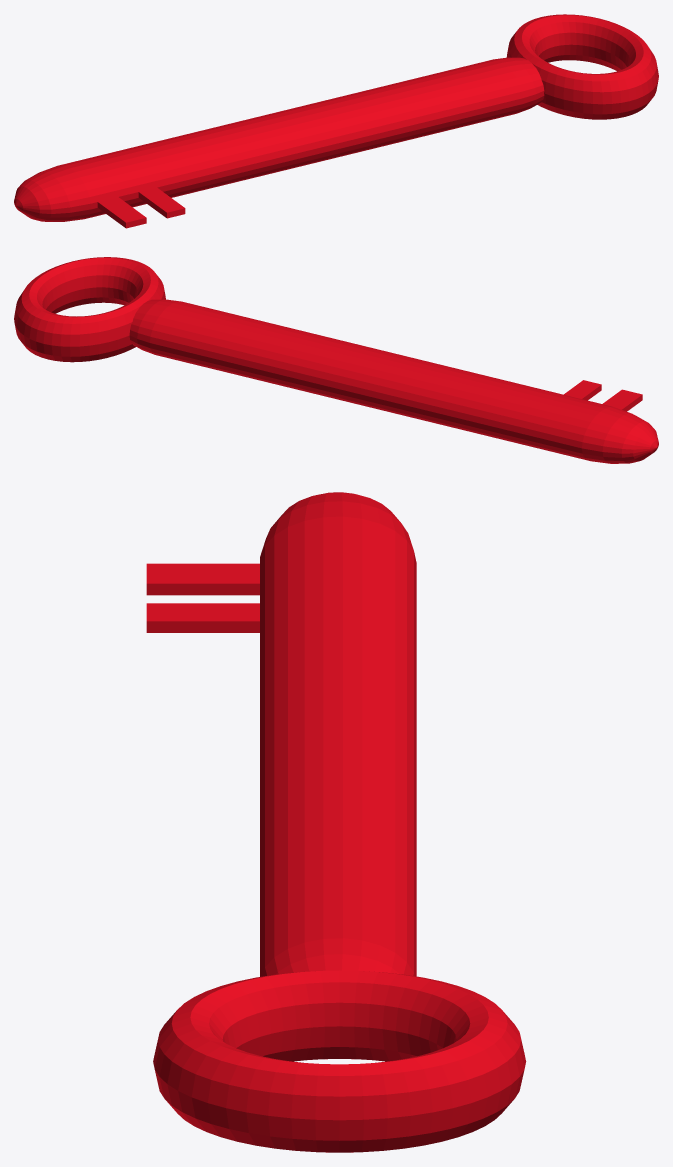
The model's file is Key_Red.fbx.
3 renders of one model, top to bottom at view 1: azimuth 30°, elevation 25°; view 2: azimuth 150°, elevation 25°; view 3: azimuth 270°, elevation 25°, orthographic. The views are drawn at different scales.
Parts seen in each view (by area): view 1: Key_Red; view 2: Key_Red; view 3: Key_Red.
Part boxes in pixels (left/top/right/bottom): Key_Red: left=14, top=14, right=658, bottom=228; Key_Red: left=14, top=257, right=658, bottom=463; Key_Red: left=146, top=492, right=526, bottom=1152.
Bounding box in the file's own units: 8.51 × 0.6 × 2.23.
